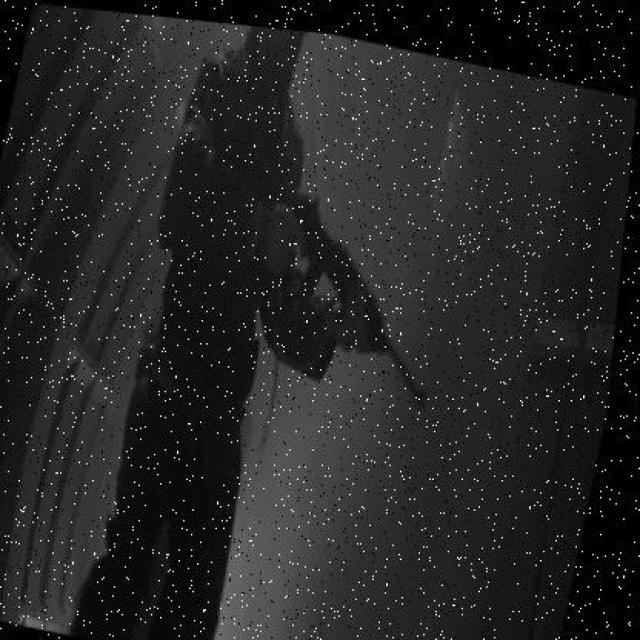weapon: (226, 148, 437, 418)
